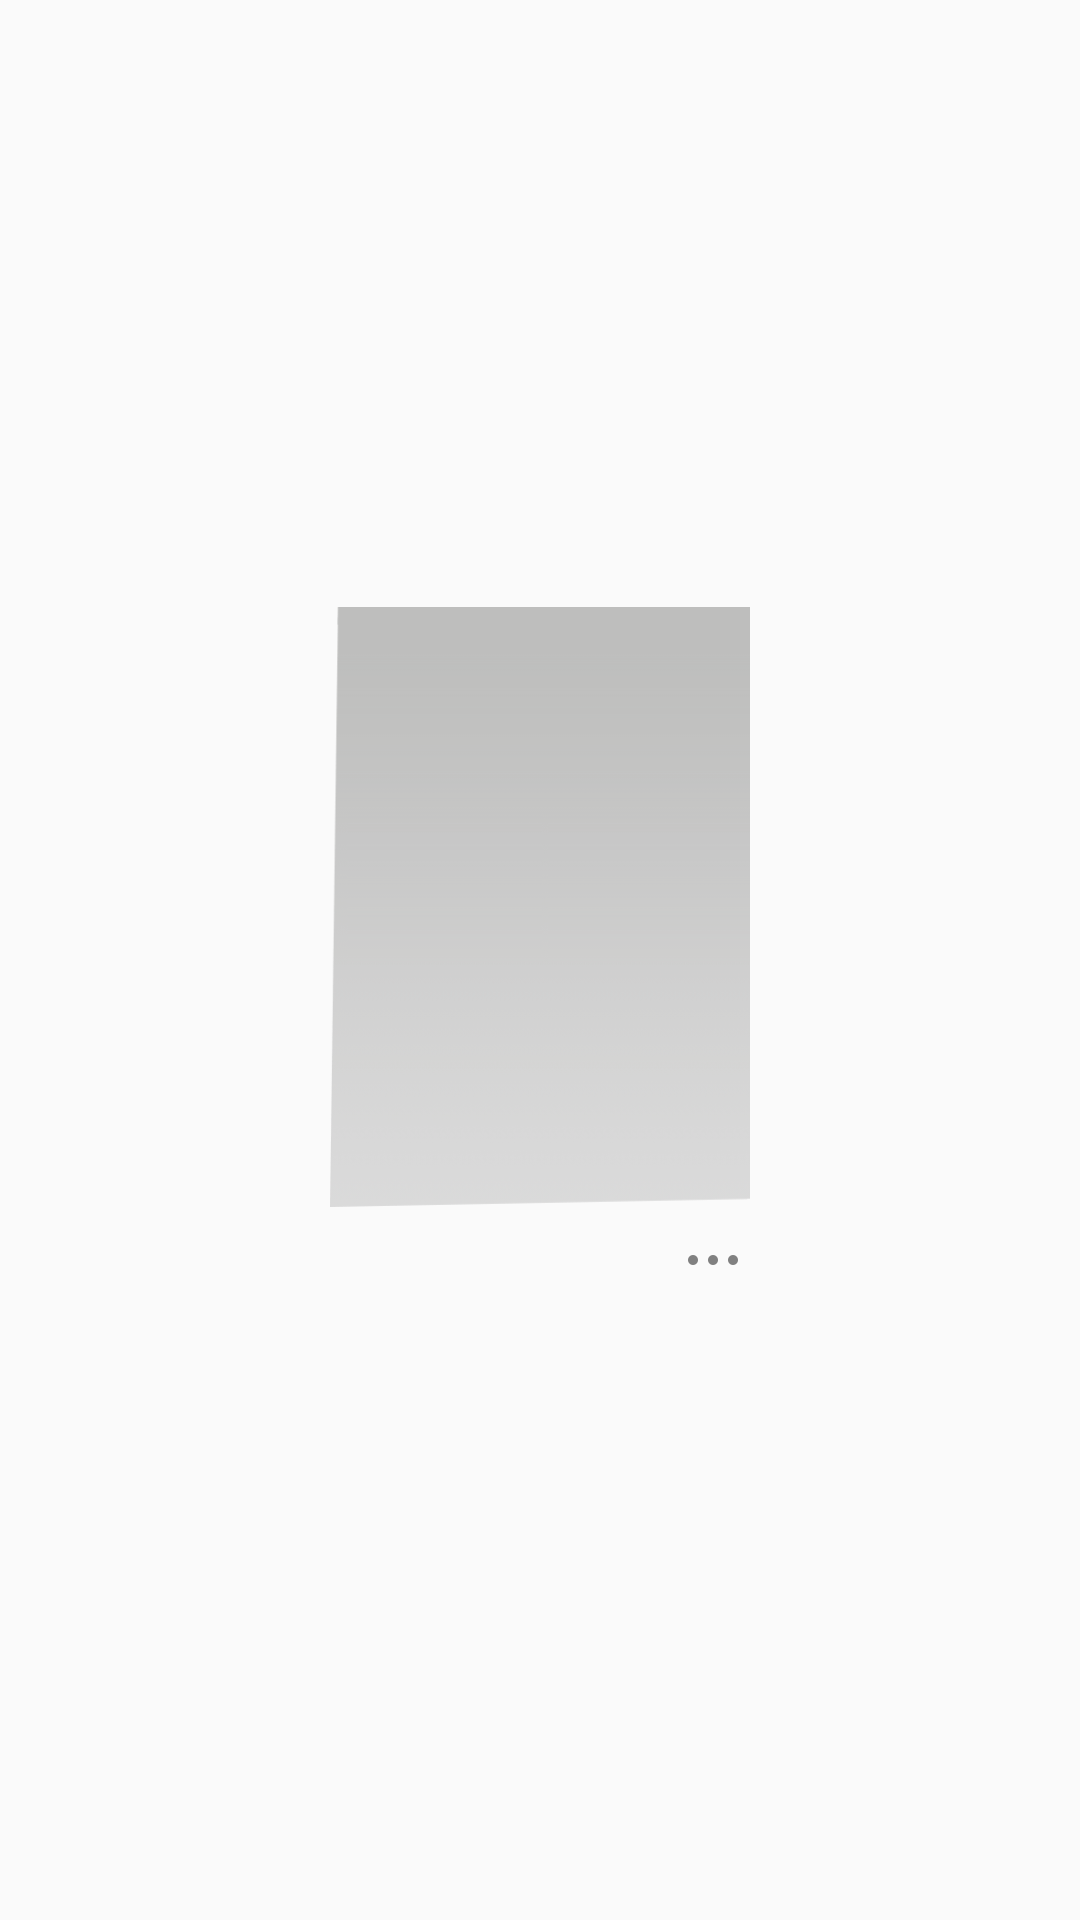

Screen size 1080 x 1920. Icon name, then its box in pixels as (x1, y1, x2, y2):
settings more: (688, 1255, 738, 1265)
